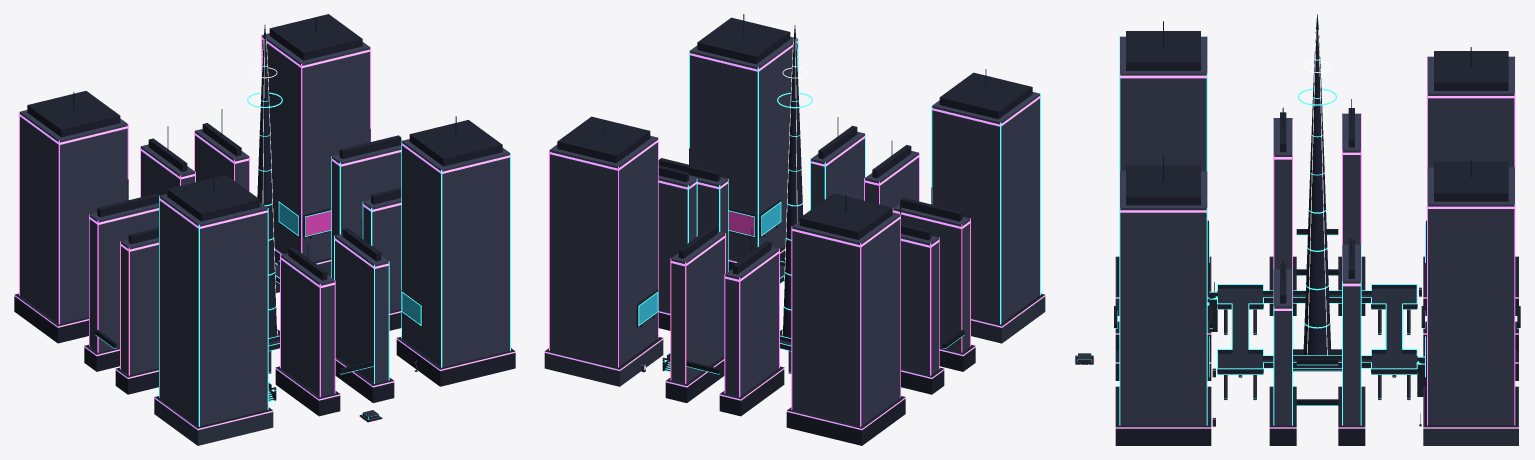
3 views of the same model, side by side, from view 1: azimuth 30°, elevation 25°; view 2: azimuth 150°, elevation 25°; view 3: azimuth 270°, elevation 25° (orthographic). The views are drawn at different scales.
Parts seen in each view (by area): view 1: district_city_cero.lod1; view 2: district_city_cero.lod1; view 3: district_city_cero.lod1.
Part boxes in pixels (x1,y1,x2,y2): district_city_cero.lod1: (14,14,515,445); district_city_cero.lod1: (544,14,1045,445); district_city_cero.lod1: (1074,14,1520,445).
Bounding box in the file's own units: 97.84 × 92.01 × 107.
